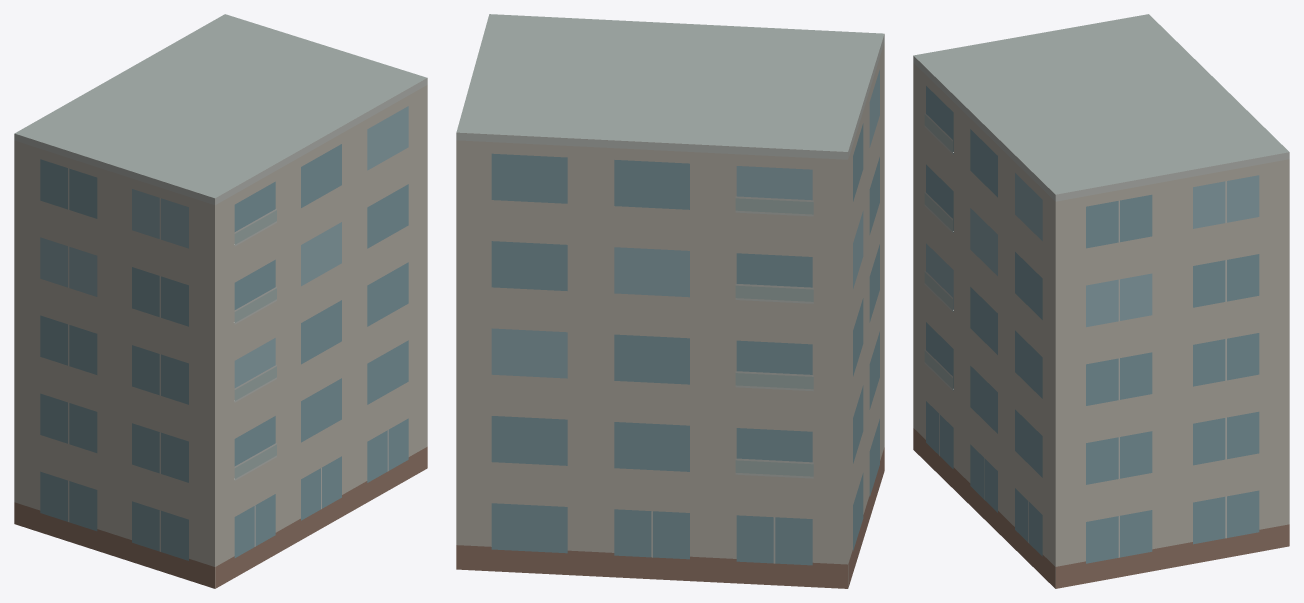
The model's file is survey-upis-32593575.glb.
3 renders of one model, left to right at view 1: azimuth 30°, elevation 25°; view 2: azimuth 150°, elevation 25°; view 3: azimuth 270°, elevation 25°, orthographic. The views are drawn at different scales.
Parts seen in each view (by area): view 1: survey-upis-32593575.tmp; view 2: survey-upis-32593575.tmp; view 3: survey-upis-32593575.tmp.
Part boxes in pixels (<box>): survey-upis-32593575.tmp: <box>14,14,427,588</box>; survey-upis-32593575.tmp: <box>456,14,884,588</box>; survey-upis-32593575.tmp: <box>913,14,1289,588</box>.
Size of the model in its own units: 13.53 by 13.75 by 11.91.
